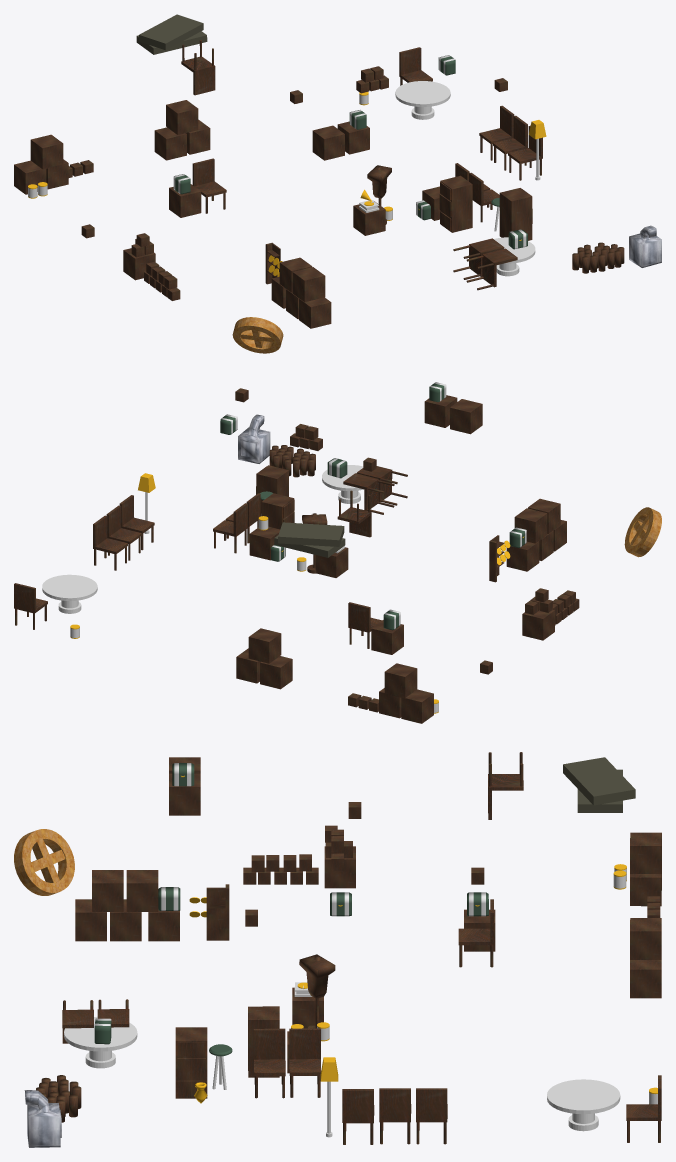
The model's file is attic_obj.dae.
3 renders of one model, top to bottom at view 1: azimuth 30°, elevation 25°; view 2: azimuth 150°, elevation 25°; view 3: azimuth 270°, elevation 25°, orthographic. The views are drawn at different scales.
Parts seen in each view (by area): view 1: Drawers.001-col, Drawers-col, Wheel.001-col, Table.001-col, Mattress-col, Stove-col, Chair.6-col, Box.012-col, Box.005-col, Box.014-col, Box.003--col, Chair.1-col (+20 smaller); view 2: Table.001-col, Mattress-col, Wheel.001-col, Stove-col, Box.014-col, Box.005-col, Box.003--col, Drawers.001-col, Box.004-col, Drawers-col, Box.015-col, Box-001-col (+20 smaller); view 3: Wheel.001-col, Table.001-col, Mattress-col, Drawers-col, Stove-col, Table-col, Chair.3-col, Chair.2-col, Box.011-col, Box.014-col, Box.012-col, Box.005-col (+22 smaller).
Part boxes in pixels (x1=…): Drawers.001-col: x1=439, y1=175, x2=472, y2=232; Drawers-col: x1=499, y1=188, x2=532, y2=240; Wheel.001-col: x1=232, y1=317, x2=283, y2=353; Table.001-col: x1=395, y1=81, x2=450, y2=119; Mattress-col: x1=139, y1=14, x2=203, y2=50; Stove-col: x1=629, y1=225, x2=661, y2=267; Chair.6-col: x1=181, y1=40, x2=215, y2=95; Box.012-col: x1=292, y1=267, x2=325, y2=302; Box.005-col: x1=30, y1=134, x2=63, y2=169; Box.014-col: x1=166, y1=100, x2=198, y2=134; Box.003--col: x1=312, y1=125, x2=344, y2=160; Chair.1-col: x1=192, y1=158, x2=226, y2=213; Table.001-col: x1=42, y1=574, x2=97, y2=613; Mattress-col: x1=278, y1=522, x2=344, y2=546; Wheel.001-col: x1=624, y1=507, x2=661, y2=557; Stove-col: x1=238, y1=414, x2=270, y2=463; Box.014-col: x1=248, y1=628, x2=281, y2=663; Box.005-col: x1=384, y1=663, x2=417, y2=698; Box.003--col: x1=450, y1=399, x2=482, y2=434; Drawers.001-col: x1=261, y1=493, x2=294, y2=529; Box.004-col: x1=401, y1=689, x2=433, y2=723; Drawers-col: x1=256, y1=465, x2=288, y2=515; Box.015-col: x1=260, y1=656, x2=292, y2=689; Box-001-col: x1=371, y1=620, x2=403, y2=654; Wheel.001-col: x1=14, y1=829, x2=74, y2=895; Table.001-col: x1=547, y1=1079, x2=620, y2=1131; Mattress-col: x1=563, y1=757, x2=635, y2=805; Drawers-col: x1=175, y1=1027, x2=207, y2=1098; Stove-col: x1=24, y1=1090, x2=61, y2=1147; Table-col: x1=64, y1=1016, x2=137, y2=1068; Chair.3-col: x1=253, y1=1028, x2=285, y2=1098; Chair.2-col: x1=289, y1=1028, x2=321, y2=1097; Box.011-col: x1=126, y1=870, x2=158, y2=911; Box.014-col: x1=630, y1=918, x2=661, y2=959; Box.012-col: x1=92, y1=870, x2=123, y2=911; Box.005-col: x1=630, y1=832, x2=661, y2=873.
Size of the model in its own units: 40.61 by 40.99 by 15.62.
Materials: 7 (3 with a texture image).
